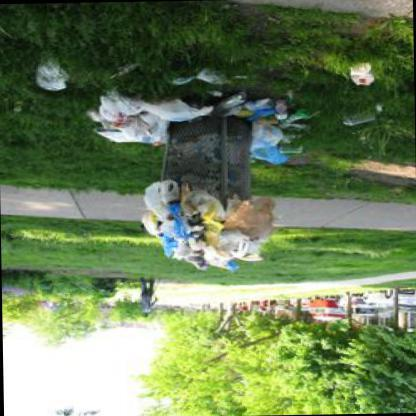Garbage: (131, 178, 279, 272), (254, 100, 304, 172), (81, 103, 144, 147), (134, 219, 200, 254), (233, 196, 285, 240), (194, 222, 240, 269), (95, 120, 162, 152), (335, 52, 386, 86), (30, 57, 74, 95), (138, 174, 176, 215), (166, 64, 236, 86), (140, 95, 198, 116), (182, 188, 222, 216), (256, 115, 285, 153), (223, 92, 262, 114), (346, 108, 378, 130), (182, 244, 221, 262), (200, 253, 240, 270), (102, 90, 127, 116), (263, 152, 290, 170), (157, 218, 187, 234), (240, 243, 262, 258)
